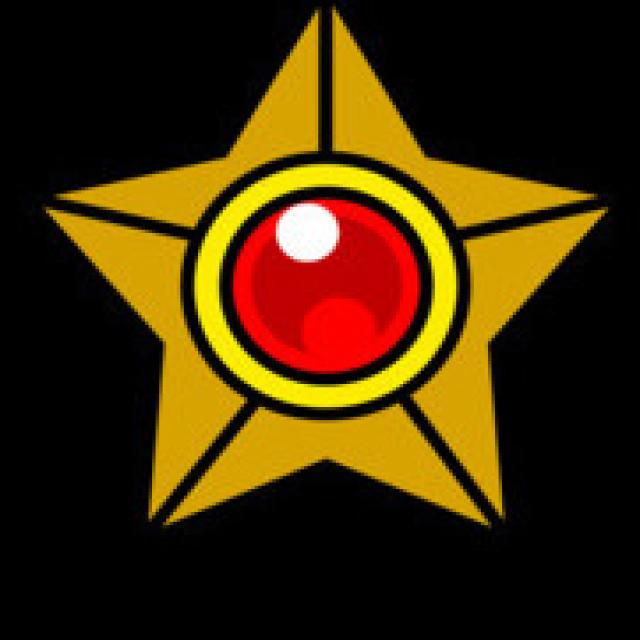Staryu: (48, 18, 589, 575)
